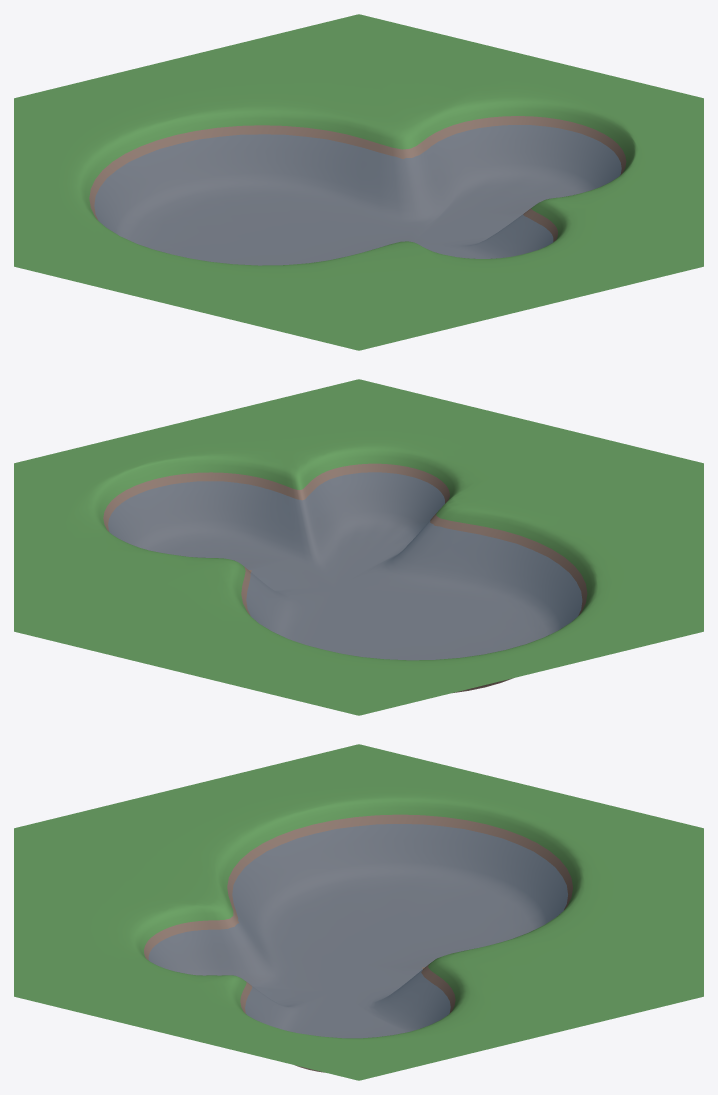
File: t_bigpond.fbx
3 renders of one model, top to bottom at view 1: azimuth 30°, elevation 25°; view 2: azimuth 150°, elevation 25°; view 3: azimuth 270°, elevation 25°, orthographic.
Parts seen in each view (by area): view 1: t_bigpond, water; view 2: t_bigpond, water; view 3: t_bigpond, water.
Part boxes in pixels (box(x1,y1,x2,y2)): t_bigpond: box(14, 14, 703, 350); water: box(94, 125, 621, 265); t_bigpond: box(14, 379, 703, 715); water: box(108, 472, 581, 659); t_bigpond: box(14, 744, 703, 1080); water: box(149, 824, 567, 1037).
Size of the model in its own units: 20000 by 1678 by 17321.
